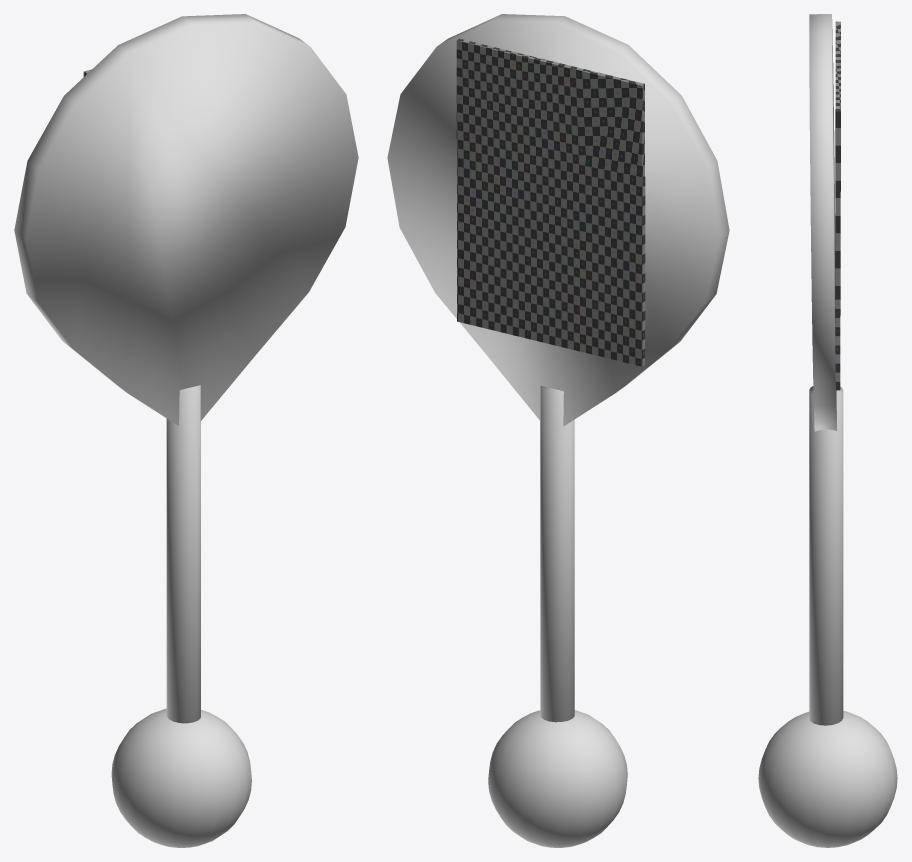
Rendered from markerx.glb.
3 views of the same model, side by side, from view 1: azimuth 30°, elevation 25°; view 2: azimuth 150°, elevation 25°; view 3: azimuth 270°, elevation 25° (orthographic).
Visible parts, largest first — view 1: Node1; view 2: Node1, ThumbnailCard; view 3: Node1, ThumbnailCard.
Part boxes in pixels (bbox=[...]): Node1: bbox=[14, 14, 358, 847]; Node1: bbox=[387, 14, 729, 847]; ThumbnailCard: bbox=[456, 38, 645, 366]; Node1: bbox=[758, 14, 897, 847]; ThumbnailCard: bbox=[835, 21, 840, 390].
Size of the model in its own units: 16.27 by 38.43 by 5.98.
Materials: 2 (1 with a texture image).
